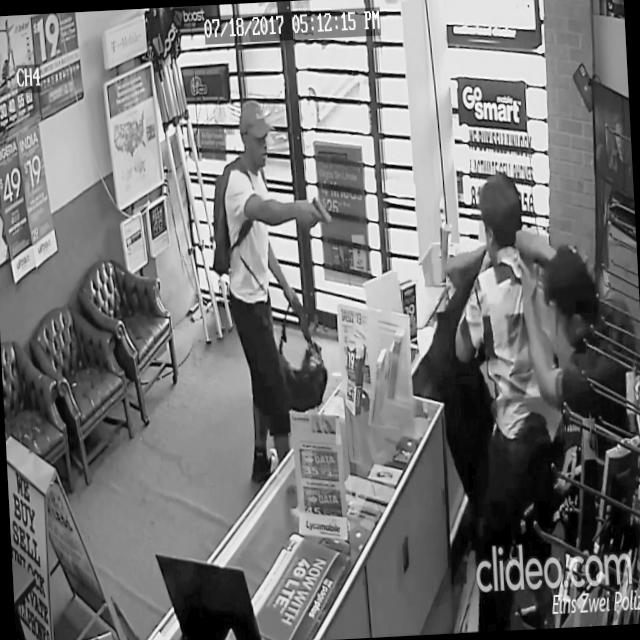gun: (312, 194, 333, 228)
person: (444, 165, 580, 632), (424, 225, 594, 574), (517, 236, 640, 628)
person with a gun: (206, 95, 347, 486)
